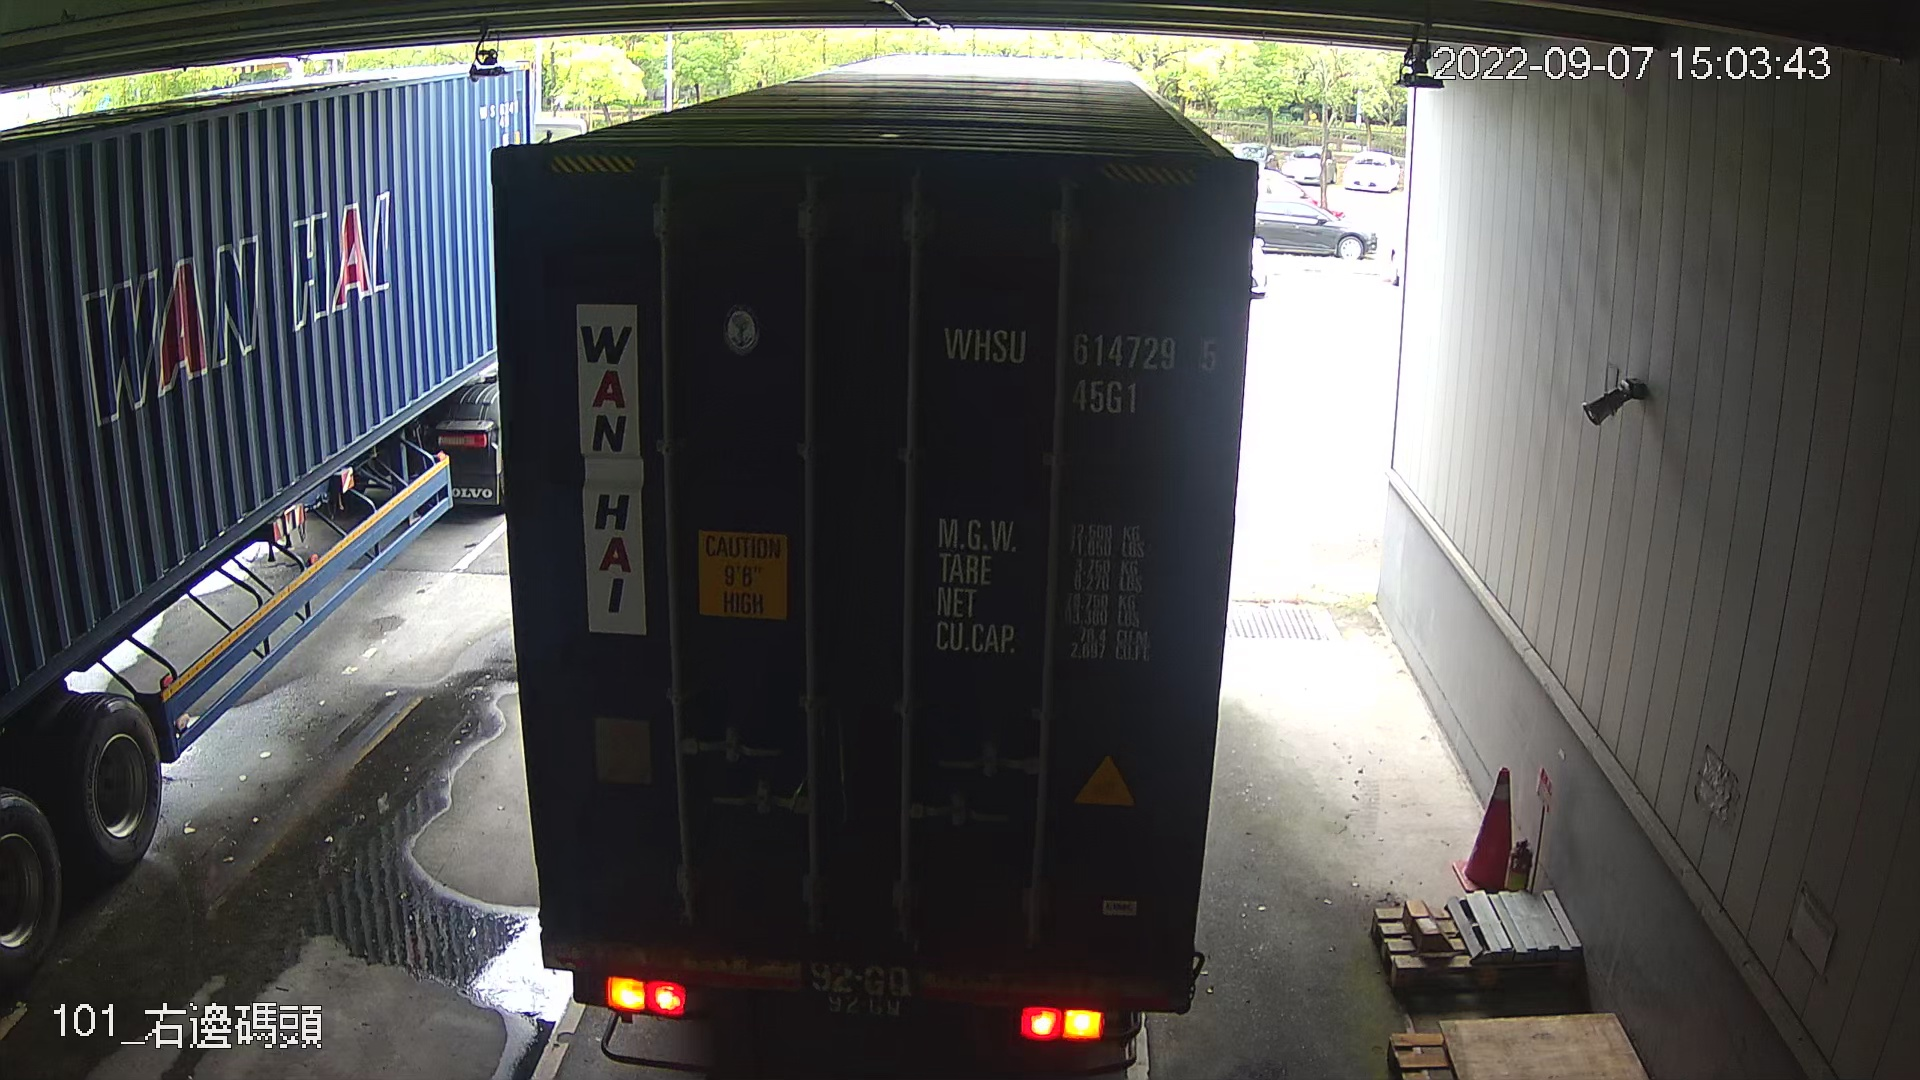container: (928, 307, 1228, 425)
